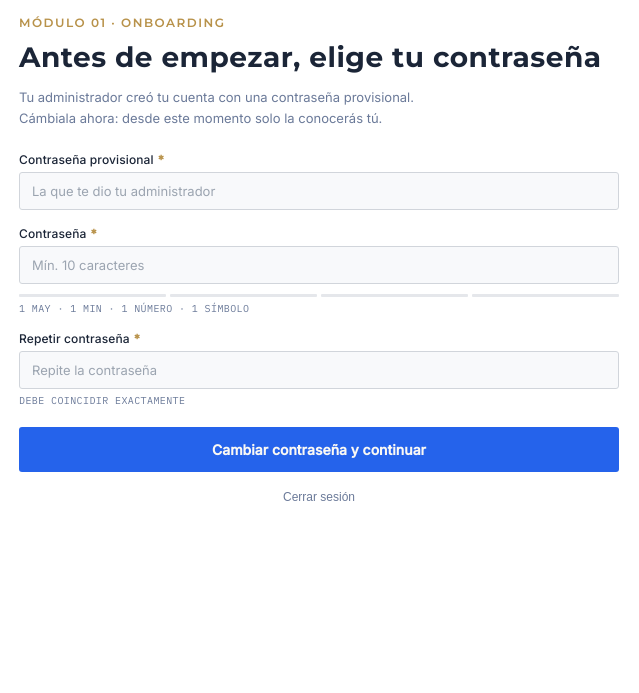
it: ACT-02 · contraseña provisional (alta por FRU) › cambia la contraseña con su correo y pasa a la pantalla normal
Type "Provisional1!" into the password field labelled "Contraseña provisional *" at [319, 191], box [19,172,619,210]
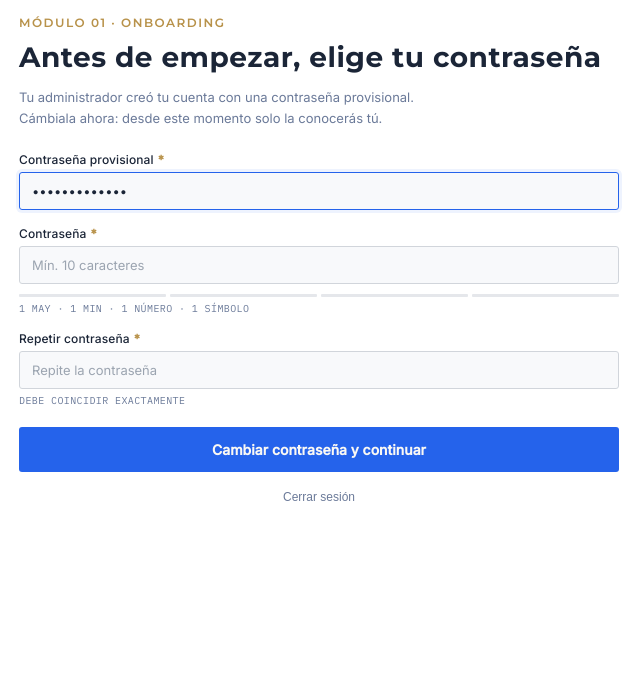
Type "NuevaClave2024!" into the password field named "Contraseña*" at [319, 265], box [19,246,619,284]
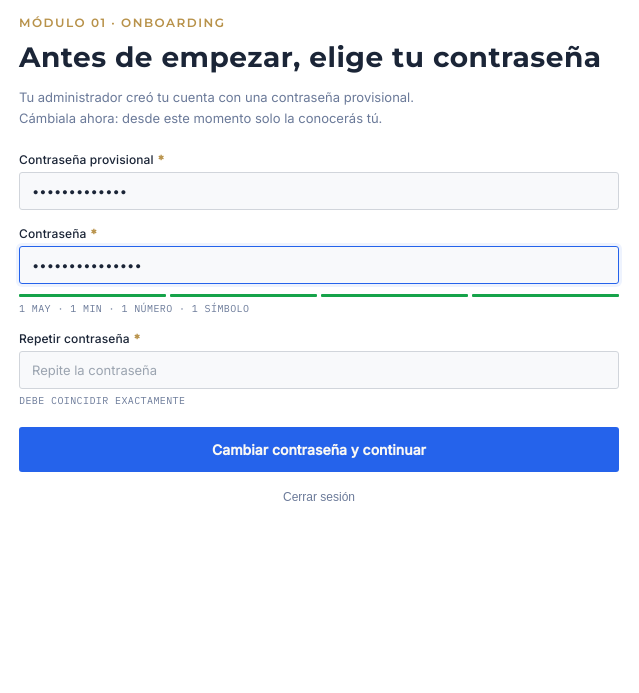
Type "NuevaClave2024!" into the password field labelled "Repetir contraseña *" at [319, 370], box [19,351,619,389]
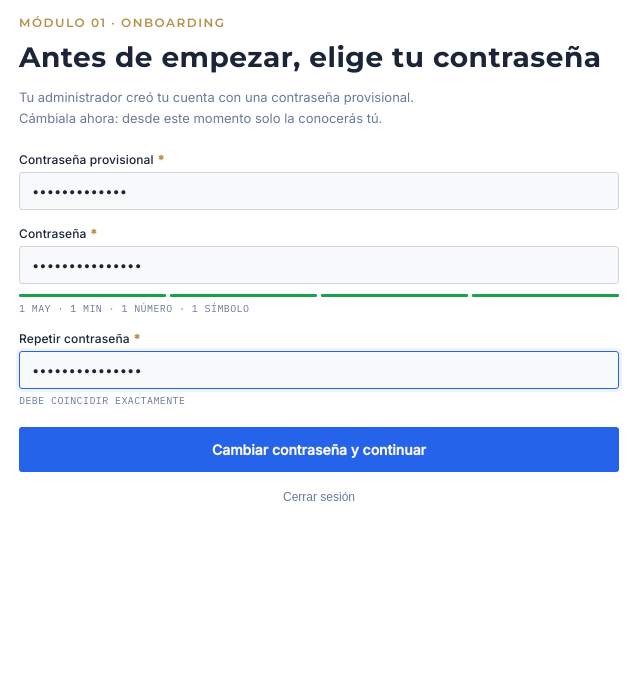
Click the button "Cambiar contraseña y continuar" at [319, 449], box [19,427,619,472]
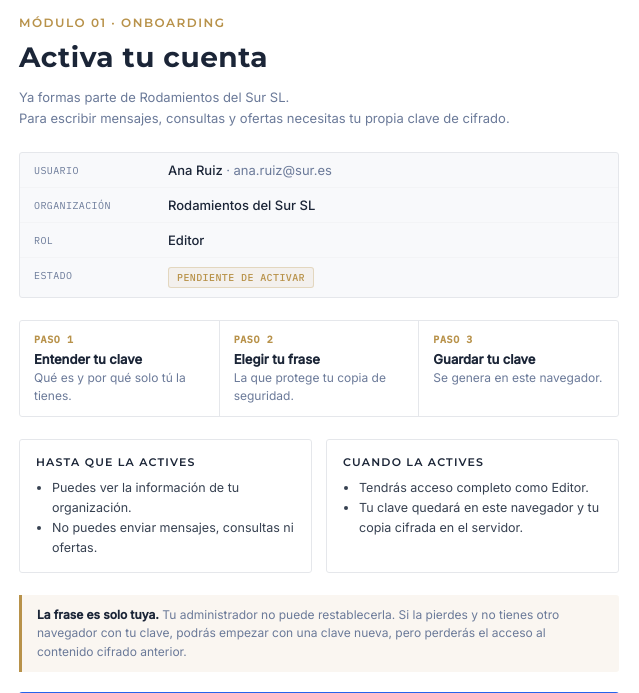
Now the heading "Activa tu cuenta" is shown, box [19,40,268,74]
